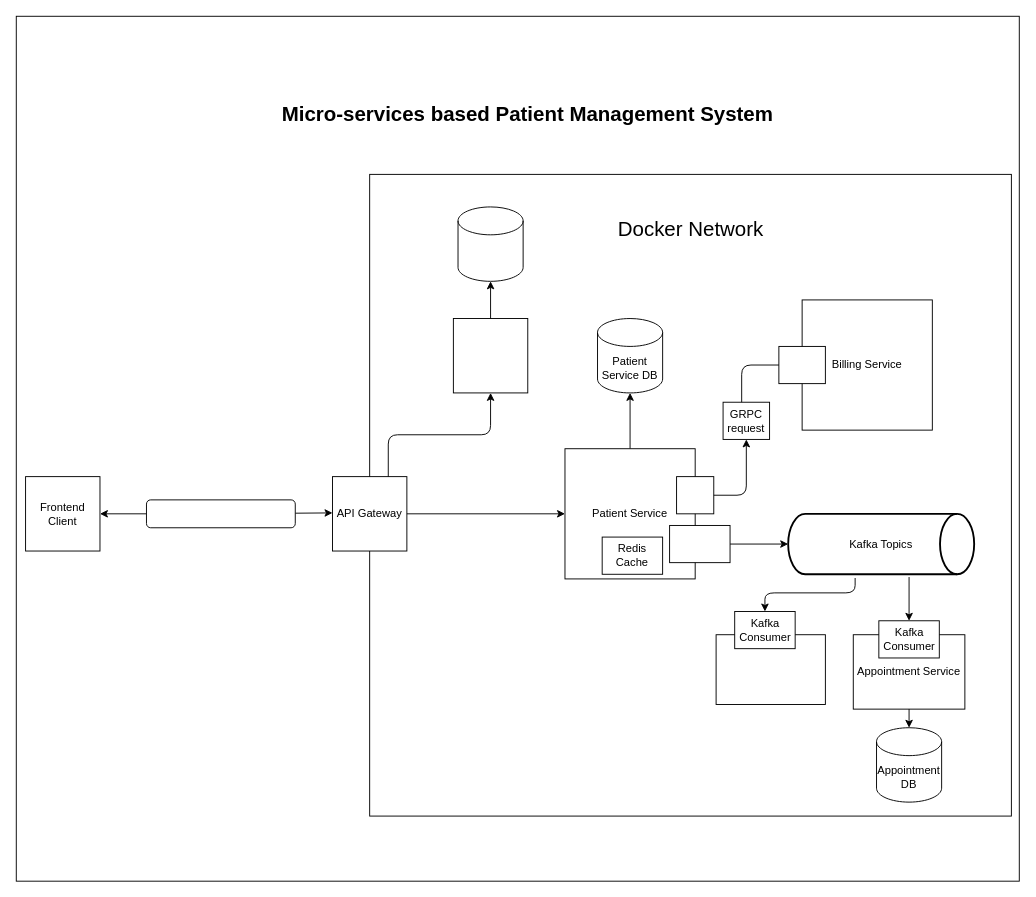
Some shapes in this 1036 by 897 pixel diagram are drawn without their labels. The shapes that lost their labels are listed below. From the top down, each one's centre as x and y in pixels, then its label:
the point at 490,243: Auth Service DB
the point at 490,355: Auth Service
the point at 801,364: GRPC server
the point at 220,513: GET localhost:4000/api/patients
the point at 695,495: GRPC client
the point at 699,544: Kafka producer
the point at 770,669: Analytics Service
